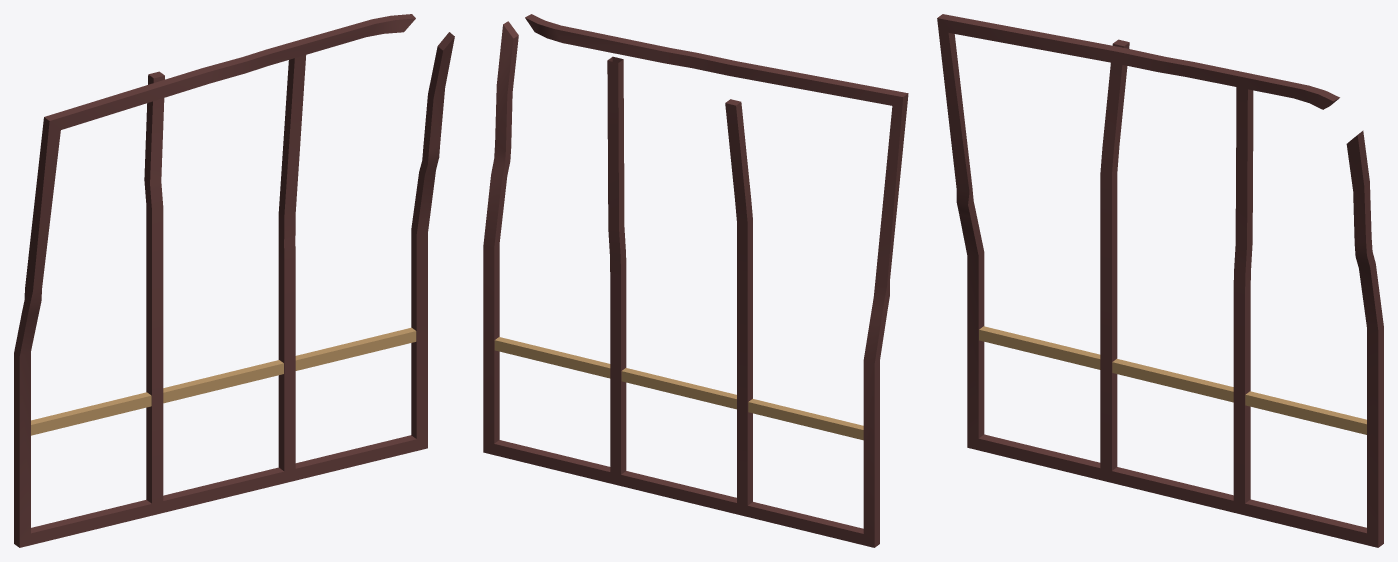
The model's file is DBK_WinBig_Metal_Tile.fbx.
3 renders of one model, left to right at view 1: azimuth 30°, elevation 25°; view 2: azimuth 150°, elevation 25°; view 3: azimuth 330°, elevation 25°, orthographic. The views are drawn at different scales.
Visible parts, largest first — view 1: DBK_WinBig_Metal_Tile; view 2: DBK_WinBig_Metal_Tile; view 3: DBK_WinBig_Metal_Tile.
Boxes of the visible parts, box(x1,y1,x2,y2) form: DBK_WinBig_Metal_Tile: box(14, 14, 454, 547); DBK_WinBig_Metal_Tile: box(483, 14, 908, 547); DBK_WinBig_Metal_Tile: box(937, 14, 1383, 547).
Bounding box in the file's own units: 202 × 210 × 34.6.
